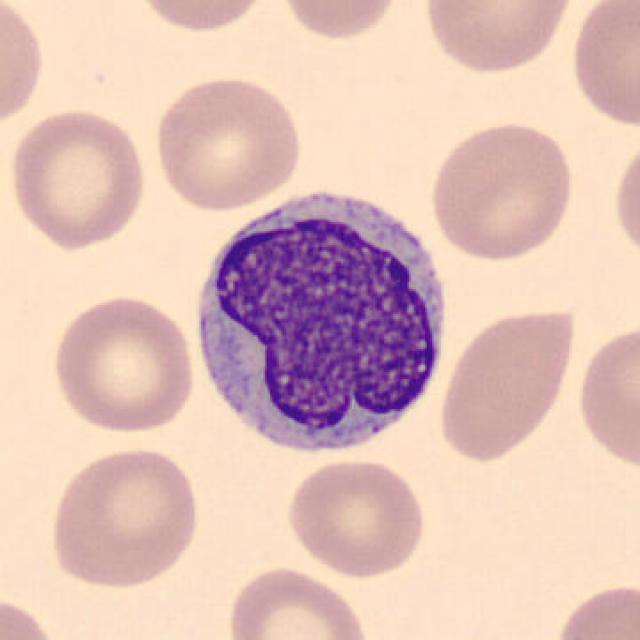Monocyte: (183, 177, 459, 468)
RBC: (434, 302, 580, 466), (44, 442, 202, 590), (425, 118, 578, 263), (149, 73, 306, 214), (46, 291, 198, 435), (5, 104, 151, 252), (283, 455, 430, 580), (418, 0, 580, 78), (222, 562, 374, 640), (572, 317, 640, 476), (565, 0, 638, 130), (0, 0, 48, 134), (276, 0, 407, 44), (547, 578, 640, 639), (130, 0, 274, 35), (610, 130, 640, 270), (0, 590, 66, 640)
